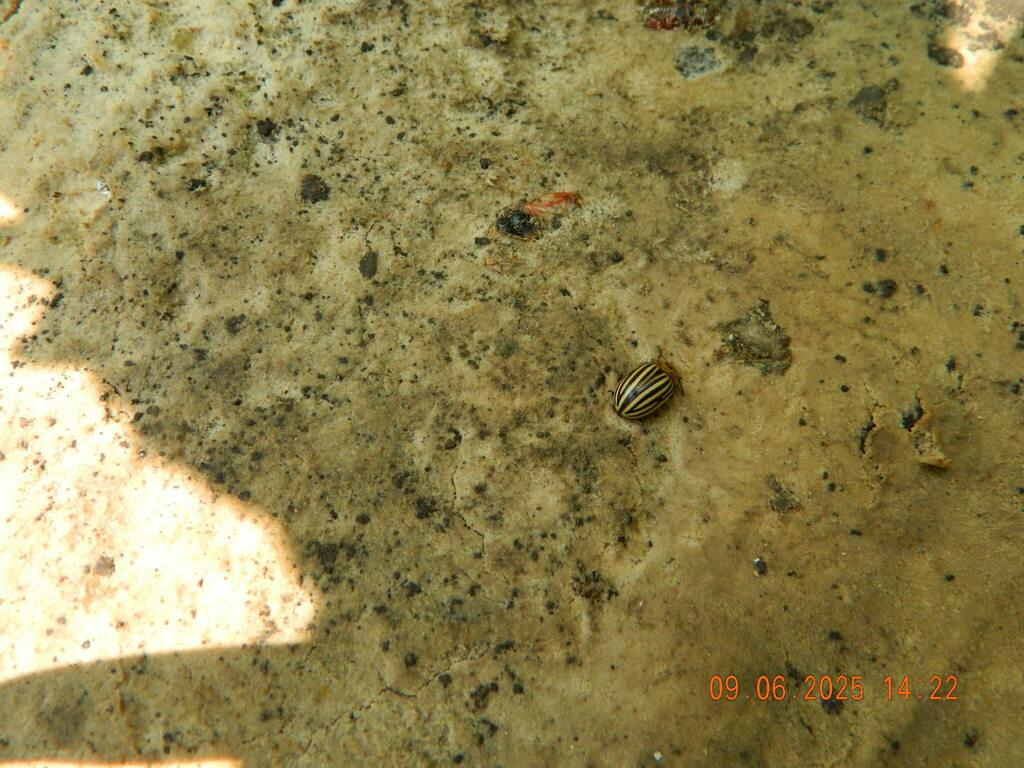potato_beetle: (592, 343, 706, 446)
